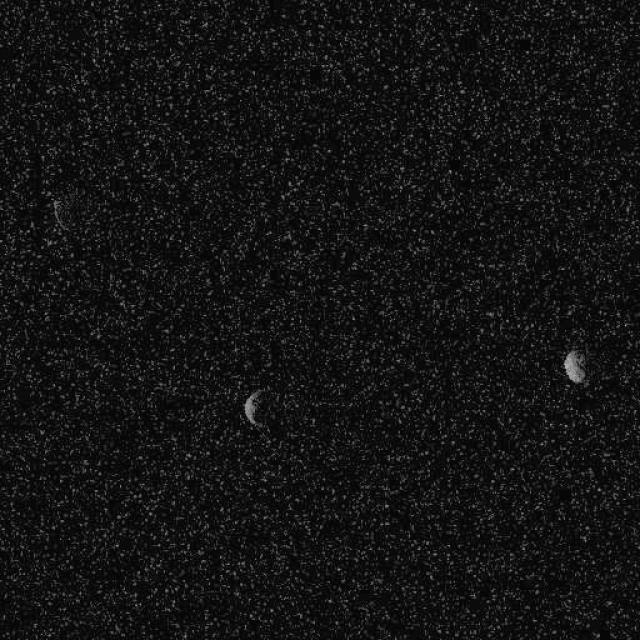D2: (242, 388, 272, 432), (562, 348, 586, 384), (50, 198, 70, 232)
